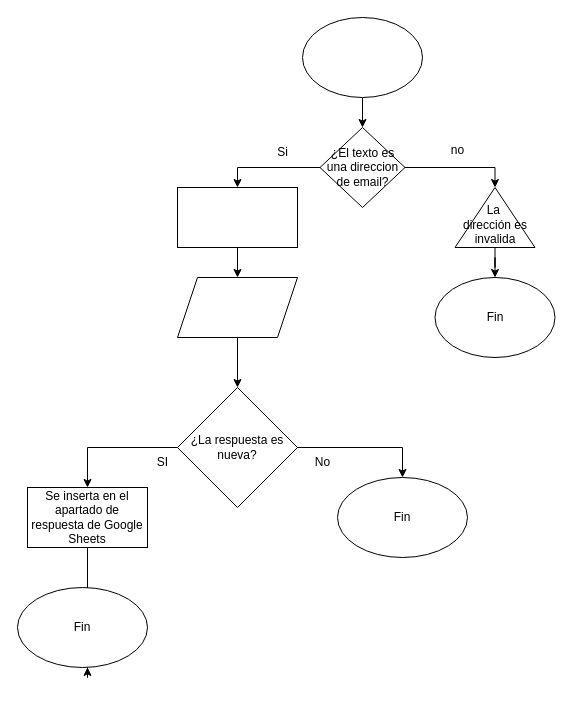
Image size: 573x703. Some labels were removed from this diagram. The shapes that lost their labels are listed below. From the top down, each one's box as (x1, y1, x2, y2) in pixels, then its label:
(302, 16, 422, 98): Inicio
(176, 186, 298, 248): Se envia un mail con formulario
(176, 276, 298, 338): Rellena el formulario
